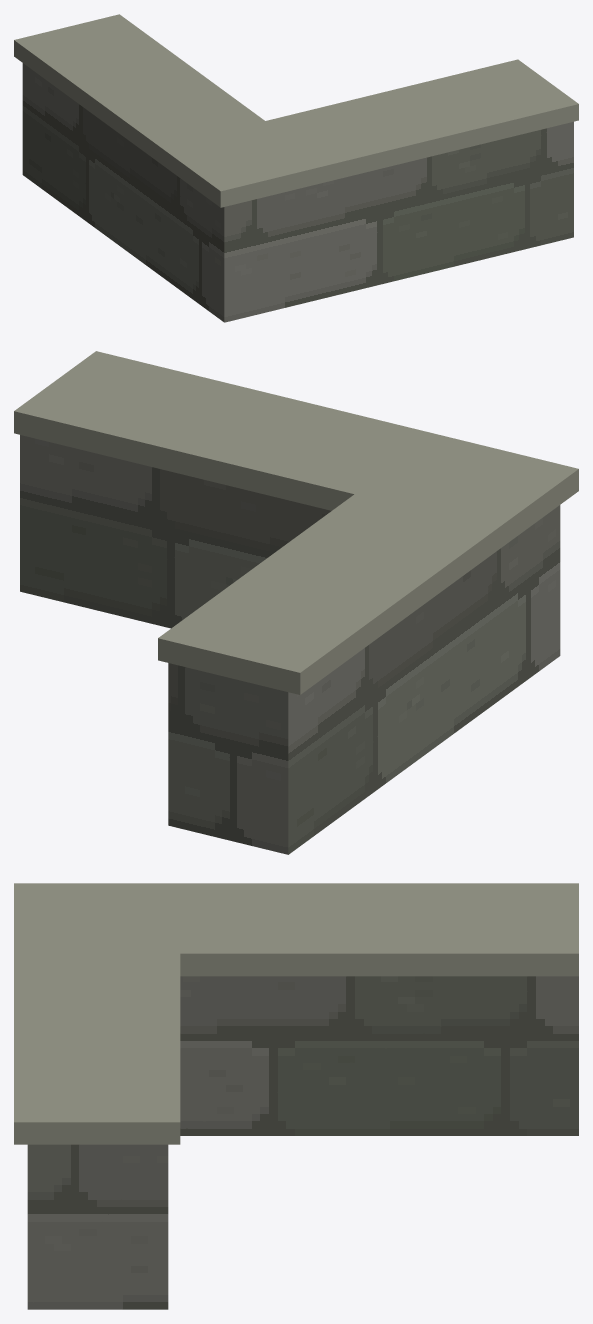
Rendered from coping_return.glb.
The picture shows the model from 3 angles, top to bottom: view 1: azimuth 30°, elevation 25°; view 2: azimuth 150°, elevation 25°; view 3: azimuth 270°, elevation 25°; orthographic projection. The views are drawn at different scales.
Parts seen in each view (by area): view 1: Coping return; view 2: Coping return; view 3: Coping return.
Boxes of the visible parts, x1=… form: Coping return: x1=14, y1=14, x2=578, y2=322; Coping return: x1=14, y1=351, x2=578, y2=854; Coping return: x1=14, y1=883, x2=578, y2=1309.
Bounding box in the file's own units: 1.03 × 0.375 × 1.03.
Materials: 2 (1 with a texture image).
